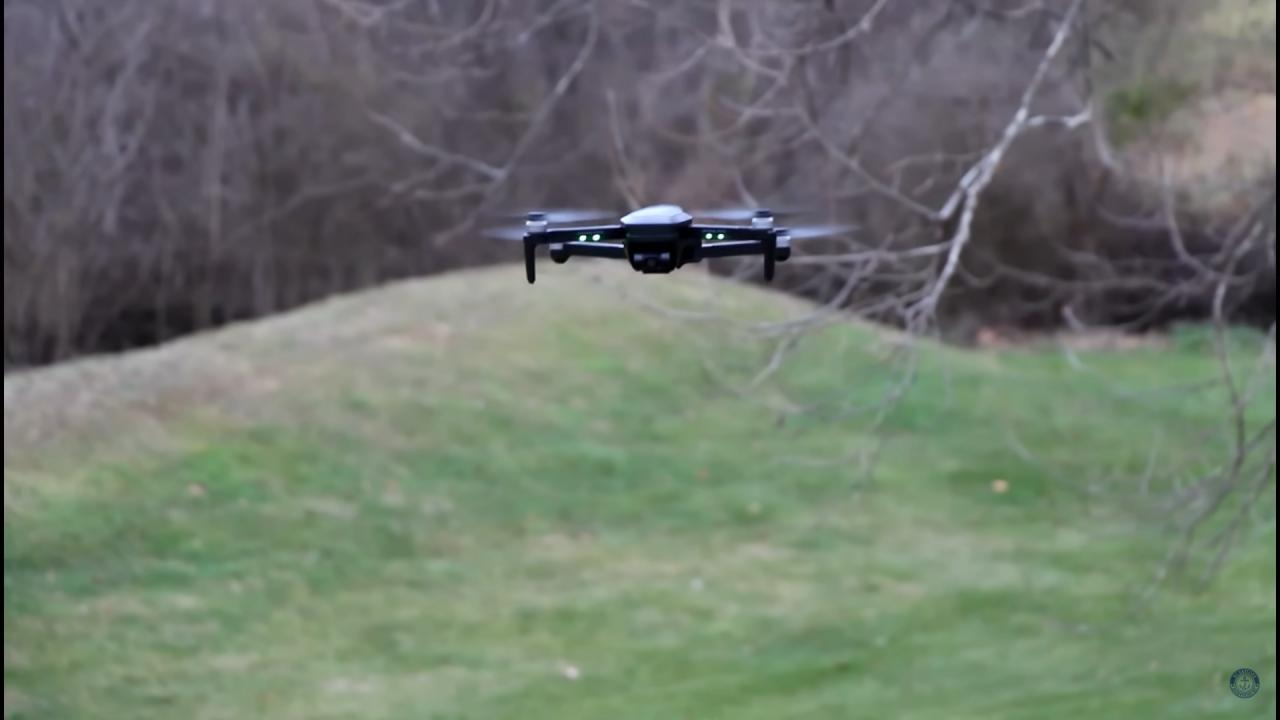Drone: (457, 197, 878, 293)
